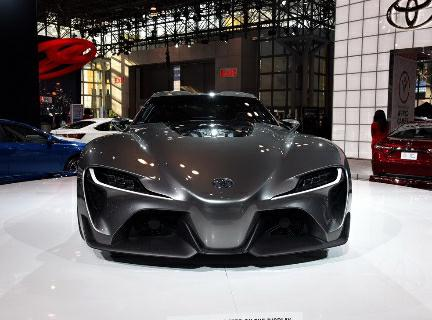丰田-FT-1: (71, 87, 356, 271)
